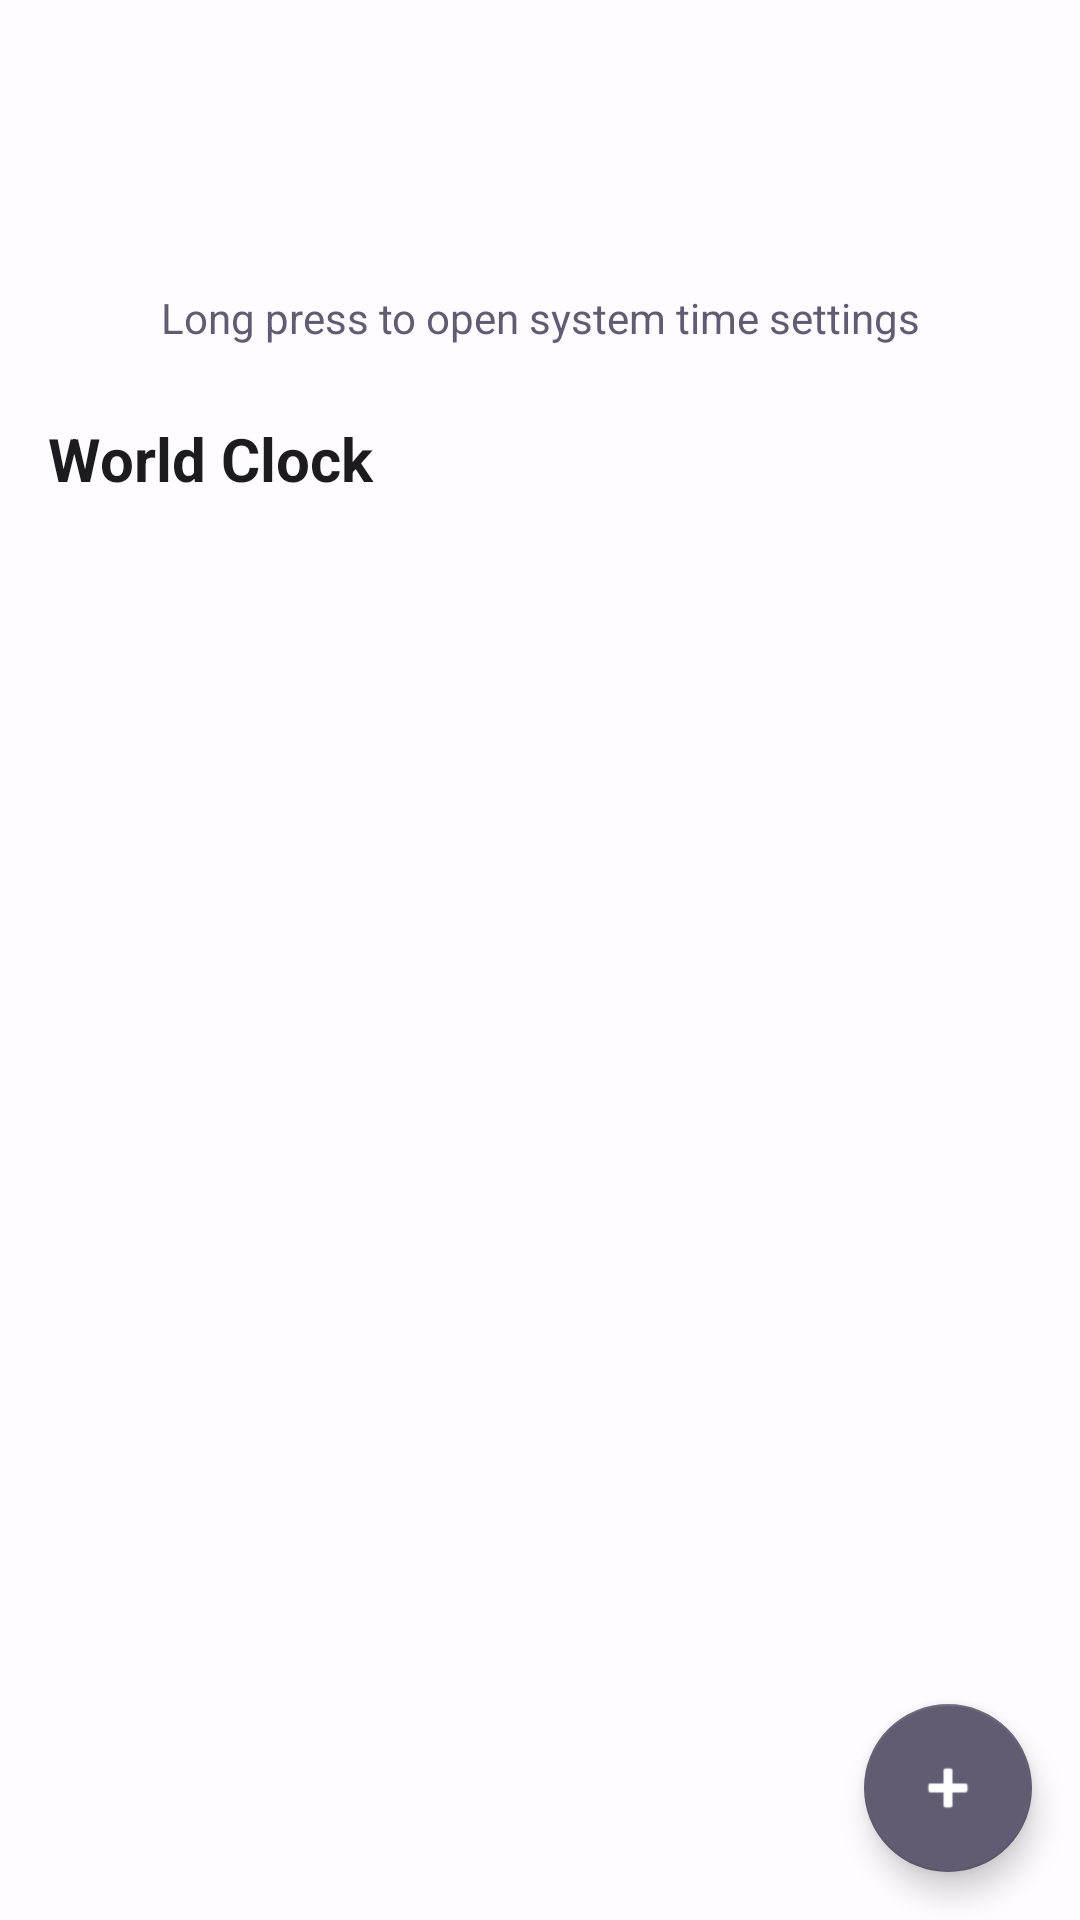

Icon bounding boxes for this 1080px x 1920px phone screenshot, format {"left": x1, "top": y1, "right": x2, "bottom": y2}:
New Alarm: {"left": 864, "top": 1704, "right": 1032, "bottom": 1872}
